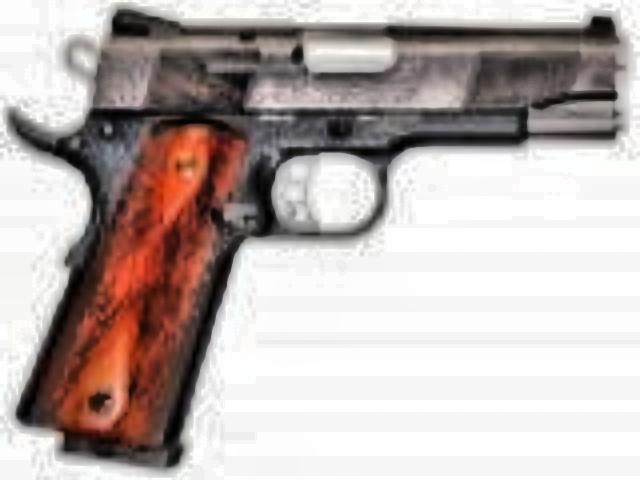pistol: (0, 0, 620, 456)
